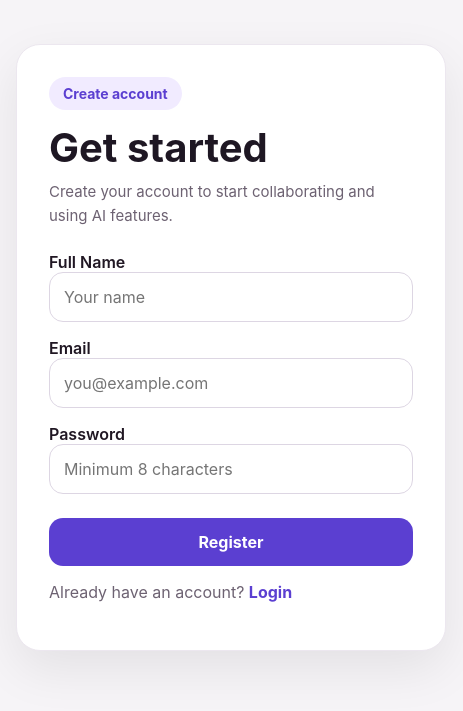
Test: submits registration details and shows a success message
Type "Alice Writer" into the field named "Full Name".
click(231, 296); type("Alice Writer")  # box [49,272,413,322]
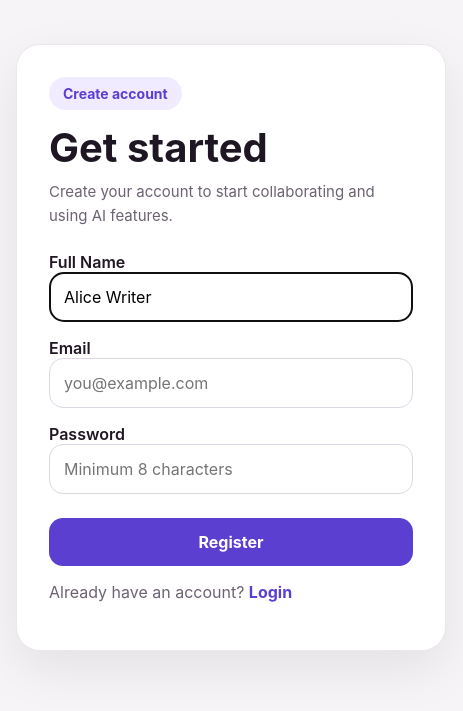
Type "alice@example.com" into the field named "Email".
click(231, 382); type("alice@example.com")  # box [49,358,413,408]
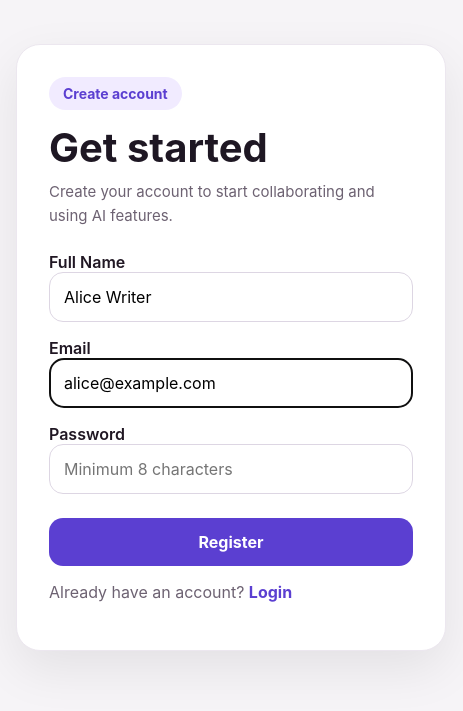
Type "secret-pass-123" into the password field named "Password".
click(231, 468); type("secret-pass-123")  # box [49,444,413,494]
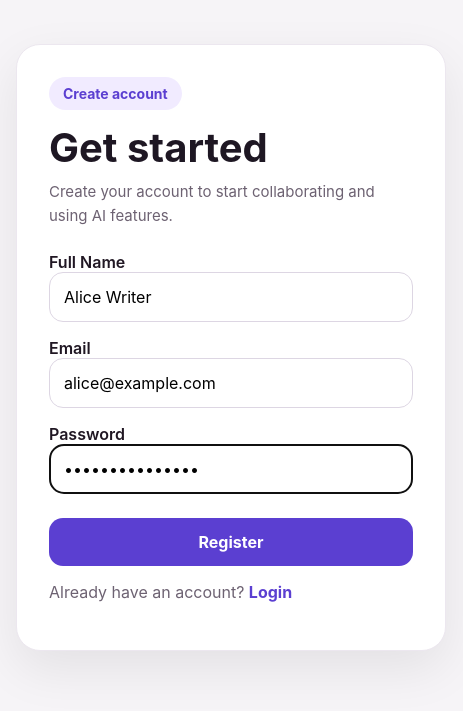
Click the button "Register".
click(231, 542)  # box [49,518,413,566]
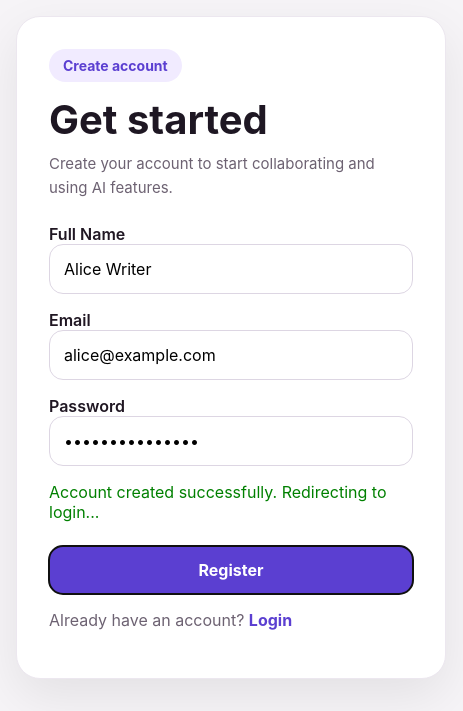
Now the text "Account created successfully. Redirecting to login..." is shown, box [49,482,413,522]
